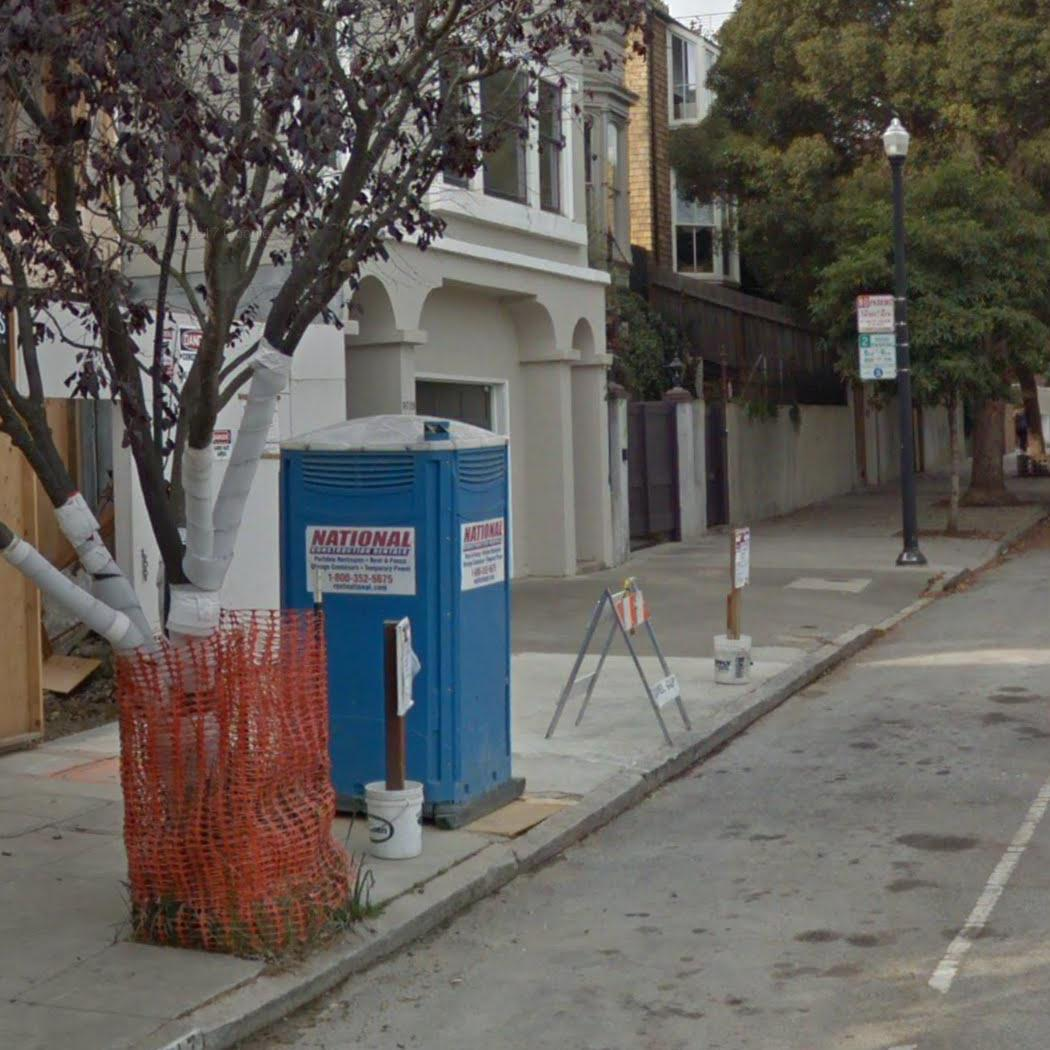2 Hour Parking: (857, 332, 898, 381)
No Parking: (854, 293, 896, 333)
